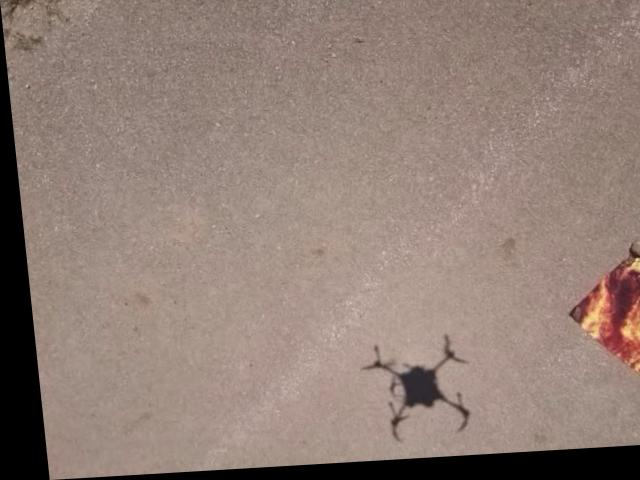fire-poster: (555, 247, 640, 401)
